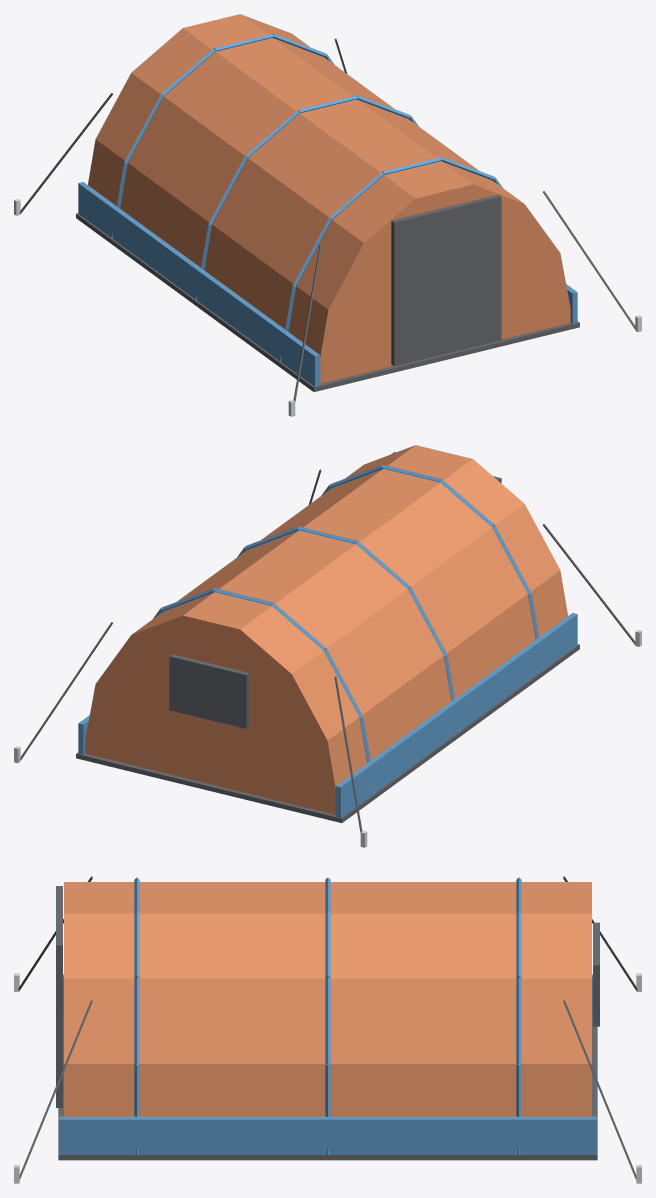
Rendered from caravan-park-and-campsite-family-tunnel-tent-1859283b__35350.glb.
The picture shows the model from 3 angles, top to bottom: view 1: azimuth 30°, elevation 25°; view 2: azimuth 150°, elevation 25°; view 3: azimuth 270°, elevation 25°; orthographic projection. The views are drawn at different scales.
Parts seen in each view (by area): view 1: family-tunnel-tent-flame, family-tunnel-tent-charcoal, family-tunnel-tent-azure; view 2: family-tunnel-tent-flame, family-tunnel-tent-azure, family-tunnel-tent-charcoal; view 3: family-tunnel-tent-flame, family-tunnel-tent-azure, family-tunnel-tent-charcoal, family-tunnel-tent-galv.
Boxes of the visible parts, x1=… form: family-tunnel-tent-flame: x1=88, y1=14, x2=570, y2=383; family-tunnel-tent-charcoal: x1=19, y1=38, x2=635, y2=401; family-tunnel-tent-azure: x1=78, y1=33, x2=577, y2=386; family-tunnel-tent-flame: x1=85, y1=445, x2=567, y2=814; family-tunnel-tent-azure: x1=78, y1=464, x2=577, y2=817; family-tunnel-tent-charcoal: x1=20, y1=452, x2=636, y2=832; family-tunnel-tent-flame: x1=64, y1=882, x2=591, y2=1116; family-tunnel-tent-azure: x1=59, y1=877, x2=596, y2=1154; family-tunnel-tent-charcoal: x1=18, y1=876, x2=637, y2=1179; family-tunnel-tent-galv: x1=14, y1=973, x2=641, y2=1183.
Size of the model in its own units: 4.09 by 1.9 by 5.59.
